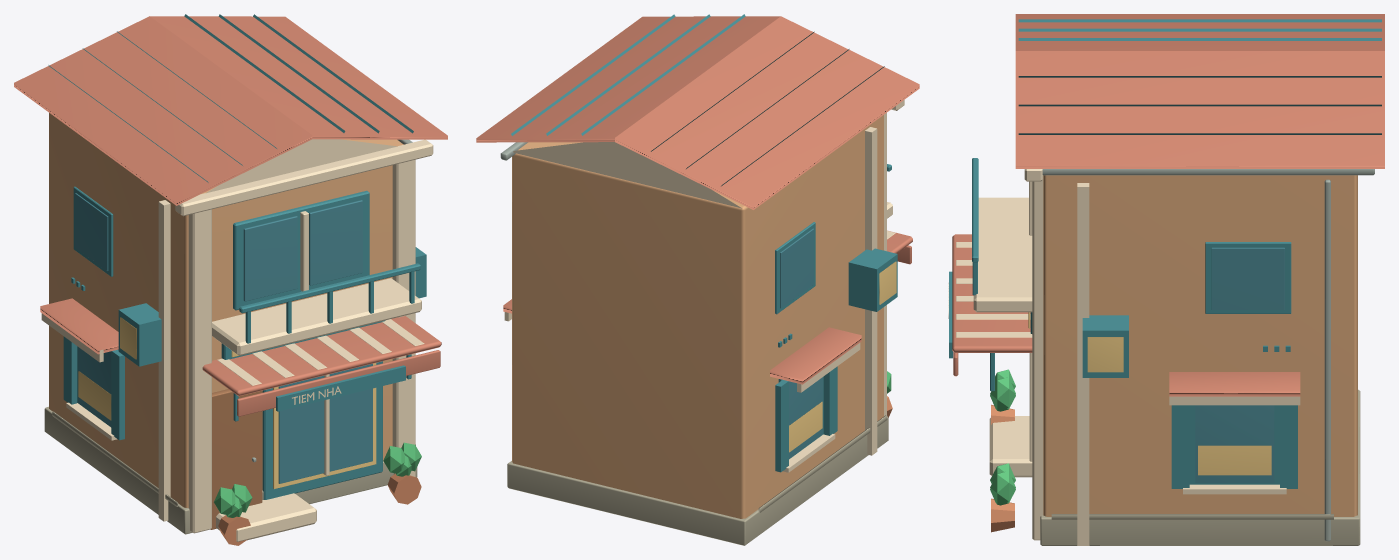
File: roadside-shop.glb
The picture shows the model from 3 angles, left to right: view 1: azimuth 30°, elevation 25°; view 2: azimuth 150°, elevation 25°; view 3: azimuth 270°, elevation 25°; orthographic projection. The views are drawn at different scales.
Visible parts, largest first — view 1: batch_red clay roof, batch_sunlit cream plaster, batch_warm ochre plaster, batch_deep teal trim, batch_rain dark glass, batch_tide mark, batch_wood door, batch_warm shop interior, batch_fresh leaves, batch_terracotta pots; view 2: batch_warm ochre plaster, batch_red clay roof, batch_tide mark, batch_sunlit cream plaster, batch_deep teal trim, batch_rain dark glass, batch_warm shop interior; view 3: batch_warm ochre plaster, batch_red clay roof, batch_sunlit cream plaster, batch_deep teal trim, batch_tide mark, batch_rain dark glass, batch_zinc gutter, batch_warm shop interior, batch_fresh leaves, batch_terracotta pots.
Part boxes in pixels (box(x1,y1,x2,y2)): batch_red clay roof: box(14, 16, 447, 416); batch_sunlit cream plaster: box(41, 139, 433, 541); batch_warm ochre plaster: box(49, 113, 403, 507); batch_deep teal trim: box(48, 14, 426, 499); batch_rain dark glass: box(75, 193, 372, 483); batch_tide mark: box(44, 406, 417, 534); batch_wood door: box(210, 389, 262, 529); batch_warm shop interior: box(78, 317, 376, 488); batch_fresh leaves: box(214, 442, 421, 517); batch_terracotta pots: box(218, 473, 421, 545); batch_warm ochre plaster: box(512, 115, 883, 518); batch_red clay roof: box(476, 16, 919, 384); batch_tide mark: box(507, 415, 888, 545); batch_sunlit cream plaster: box(504, 100, 904, 472); batch_deep teal trim: box(511, 14, 897, 472); batch_rain dark glass: box(780, 228, 822, 458); batch_warm shop interior: box(789, 261, 896, 452); batch_warm ochre plaster: box(1043, 175, 1357, 516); batch_red clay roof: box(952, 14, 1384, 396); batch_sunlit cream plaster: box(948, 169, 1300, 545); batch_deep teal trim: box(949, 19, 1381, 488); batch_tide mark: box(1040, 389, 1360, 545); batch_rain dark glass: box(1195, 247, 1284, 482); batch_zinc gutter: box(1042, 169, 1374, 541); batch_warm shop interior: box(1028, 312, 1271, 475); batch_fresh leaves: box(990, 369, 1015, 505); batch_terracotta pots: box(991, 404, 1014, 532).
Bounding box in the file's own units: 5.12 × 6.38 × 5.82.
